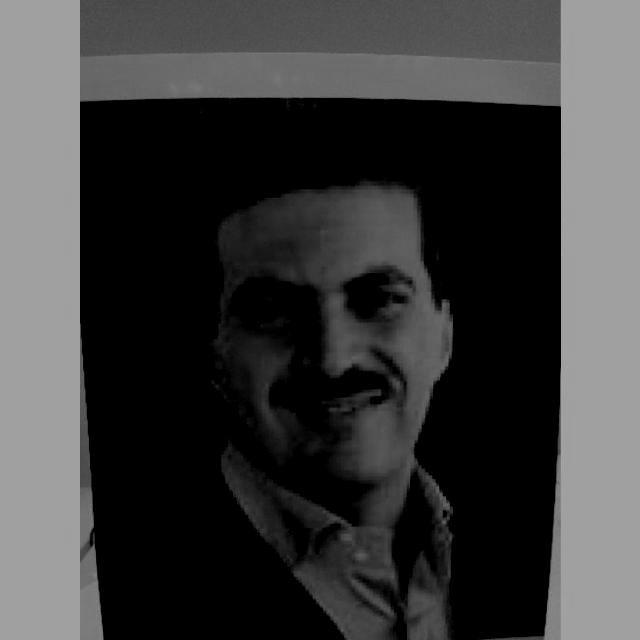fake: (79, 43, 559, 639)
